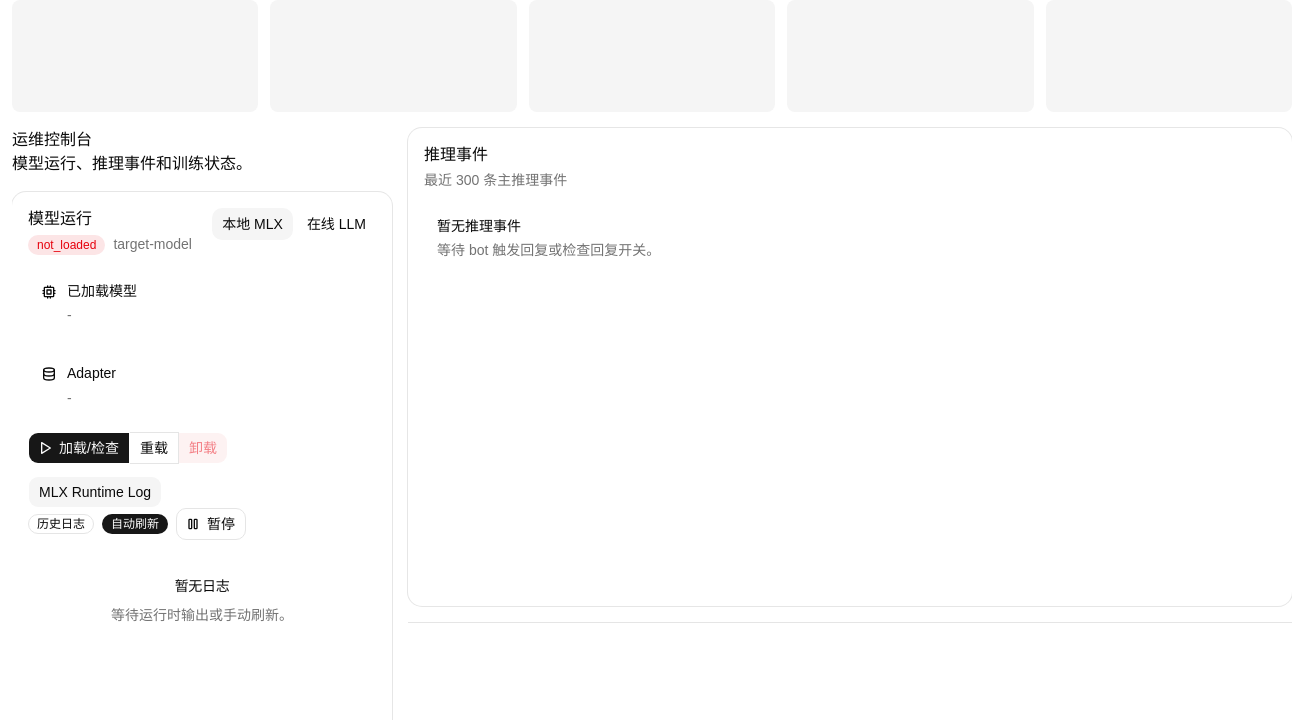
Test case: admin workspaces › runs runtime load action and exposes the operation message
What coordinates should you click on to do the following:
click the button "加载/检查"
I would click on:
 (79, 448)
Its box is [28,432,130,464].
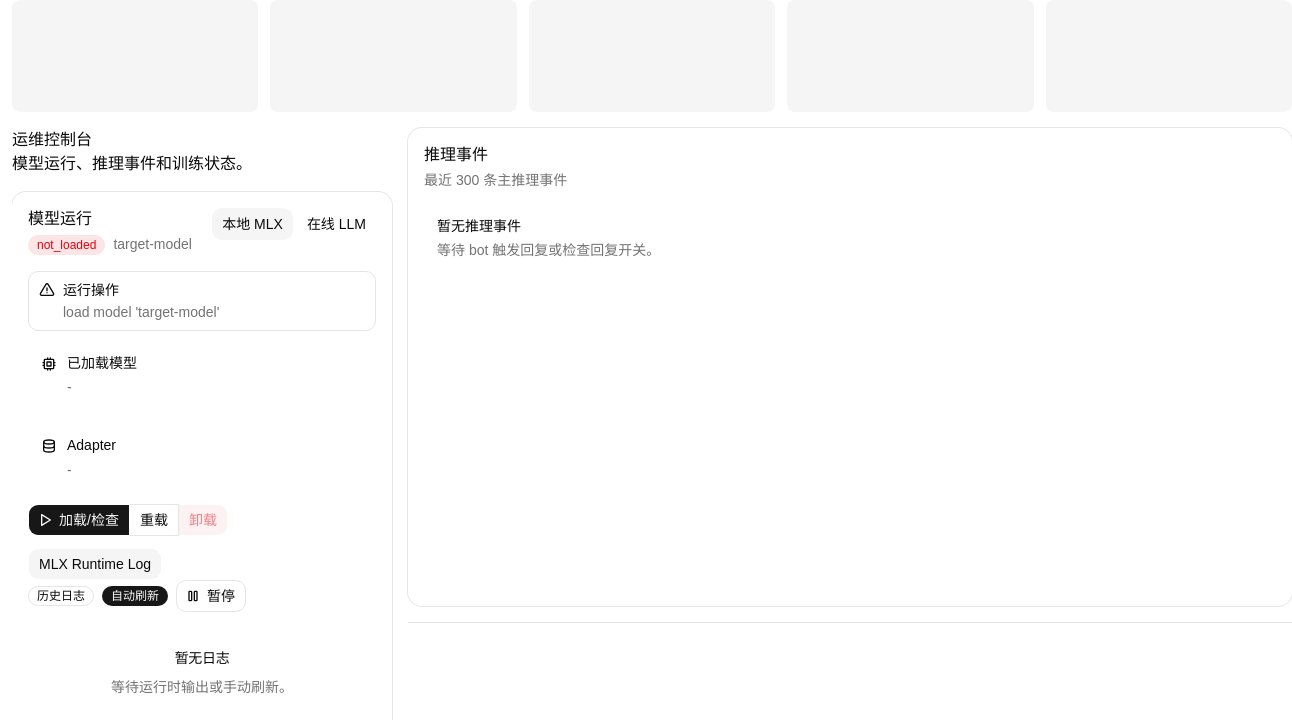
Now the text "load model 'target-model'" is shown, box [63,304,219,320]
